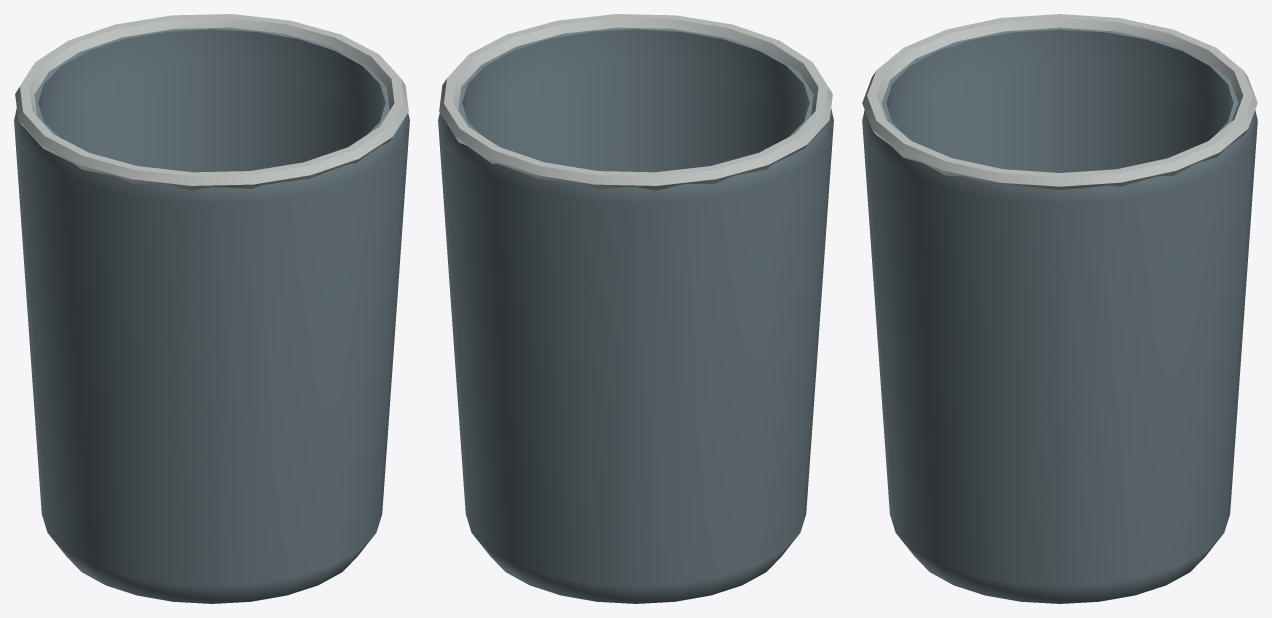
Rendered from tumbler.glb.
3 renders of one model, left to right at view 1: azimuth 30°, elevation 25°; view 2: azimuth 150°, elevation 25°; view 3: azimuth 270°, elevation 25°, orthographic.
Visible parts, largest first — view 1: thick_glass, lip; view 2: thick_glass, lip; view 3: thick_glass, lip.
Boxes of the visible parts, x1,y1,x2,y2 form: thick_glass: (14, 27, 409, 603); lip: (15, 14, 408, 190); thick_glass: (438, 27, 833, 603); lip: (439, 14, 832, 190); thick_glass: (862, 27, 1257, 603); lip: (862, 14, 1257, 189).
Bounding box in the file's own units: 0.082 × 0.1017 × 0.082.
